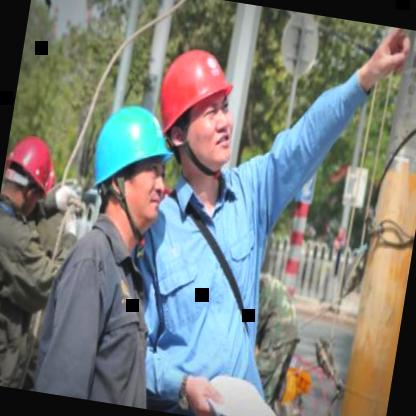helmet: (76, 90, 184, 244), (146, 38, 253, 188), (0, 126, 62, 225)
